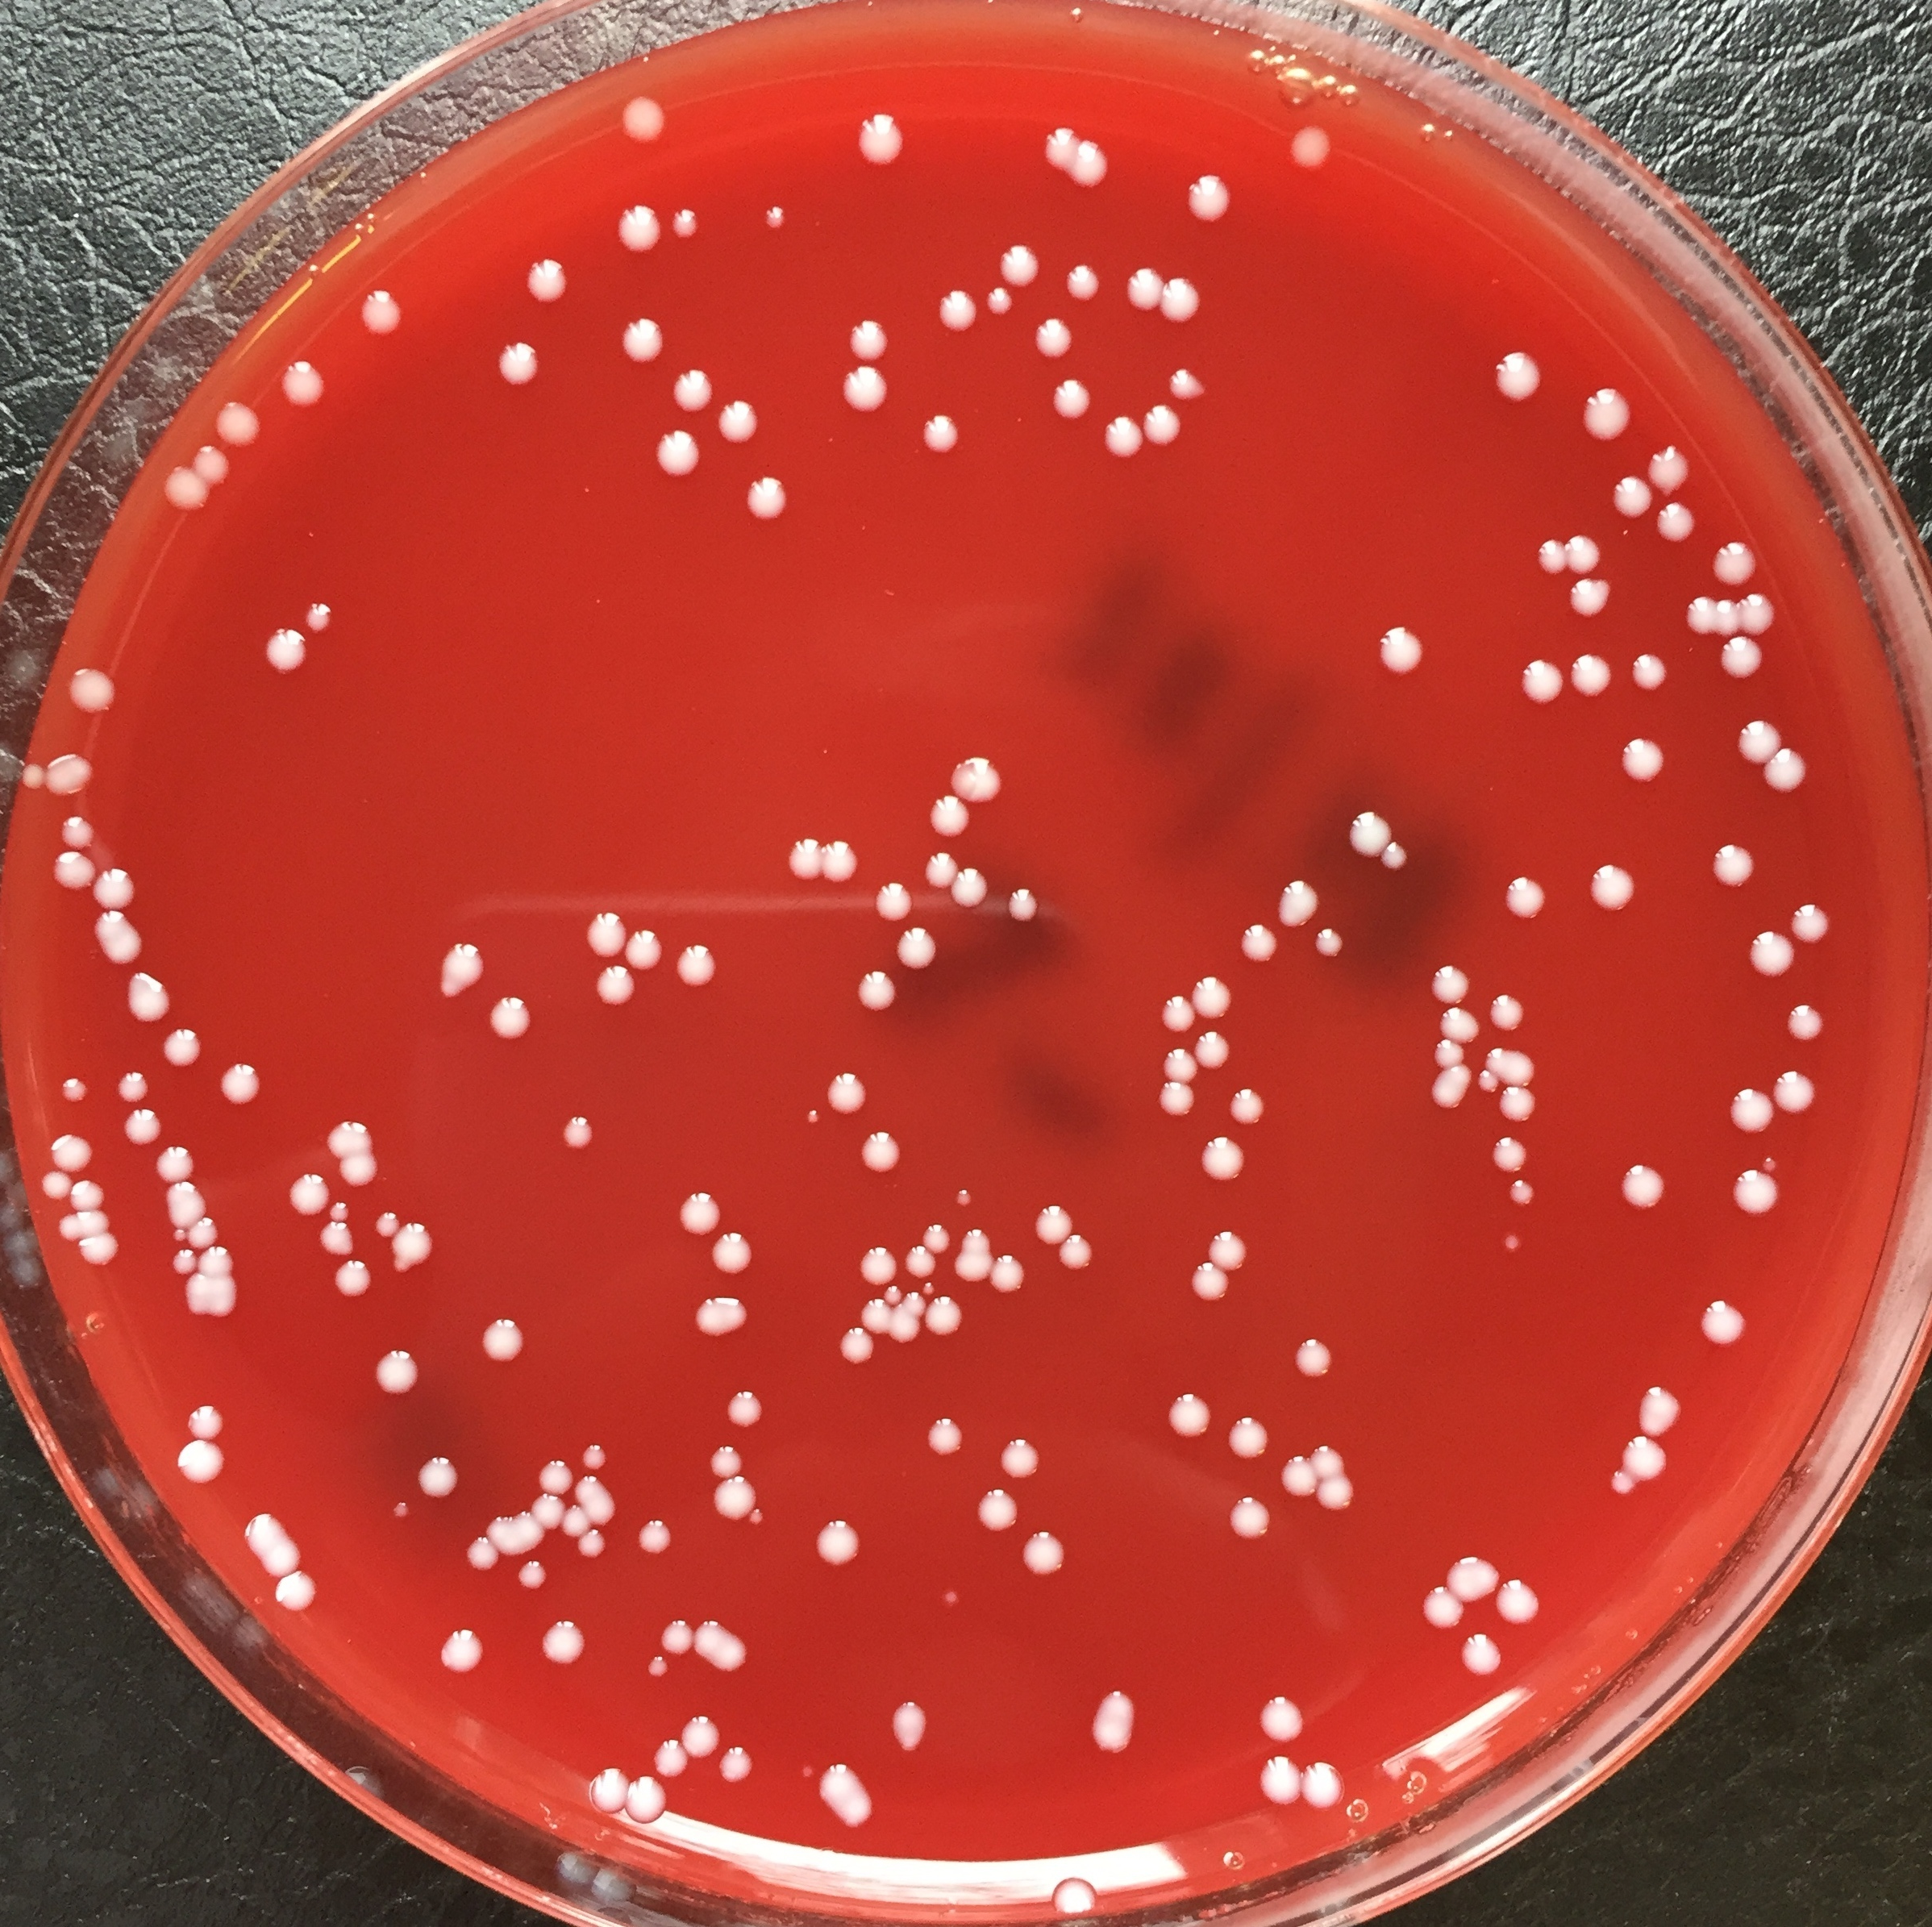sp22: (843, 106, 909, 187), (81, 904, 155, 969), (808, 1511, 872, 1586), (1075, 1685, 1136, 1759), (552, 1098, 612, 1173), (203, 390, 268, 459), (471, 1308, 536, 1376), (166, 1278, 256, 1327), (263, 351, 333, 411), (1621, 1382, 1694, 1440), (1276, 1334, 1343, 1396), (168, 1438, 236, 1496), (1170, 164, 1233, 226), (1576, 372, 1629, 445), (58, 658, 120, 720), (519, 252, 577, 318), (1244, 1689, 1318, 1740), (1759, 748, 1823, 806), (610, 86, 669, 148), (940, 743, 1002, 801), (529, 1613, 589, 1671), (358, 1346, 420, 1403), (1374, 616, 1424, 686), (640, 424, 695, 487), (44, 745, 101, 805), (693, 1615, 750, 1675), (1689, 1297, 1756, 1346), (1563, 635, 1613, 702), (1191, 965, 1247, 1023), (1704, 835, 1759, 895), (928, 275, 979, 339), (1516, 653, 1565, 718), (824, 1749, 868, 1821), (1161, 266, 1214, 326), (612, 199, 663, 261), (1701, 535, 1763, 586), (1187, 1133, 1251, 1182), (436, 1616, 483, 1682), (1586, 861, 1643, 916), (1491, 1563, 1544, 1622), (258, 626, 309, 686), (1452, 1629, 1503, 1689), (1270, 874, 1322, 934), (120, 976, 182, 1025), (1219, 1406, 1269, 1468), (436, 937, 483, 1001), (1336, 799, 1390, 854), (741, 473, 792, 531), (1043, 374, 1094, 432), (669, 937, 718, 997), (1043, 1867, 1103, 1916), (1486, 342, 1533, 404), (1022, 1523, 1069, 1585), (1646, 441, 1701, 494), (819, 1059, 872, 1113), (316, 1113, 381, 1158), (1217, 1496, 1276, 1546), (686, 1293, 746, 1341), (159, 471, 210, 526), (1288, 122, 1337, 178), (219, 1053, 268, 1110), (709, 1473, 766, 1523), (1300, 1754, 1348, 1812), (720, 1380, 766, 1440), (582, 1754, 626, 1816), (393, 1218, 434, 1285), (1727, 1173, 1780, 1225), (843, 314, 893, 369), (995, 1424, 1050, 1473), (1071, 132, 1119, 189), (575, 904, 623, 960), (1503, 870, 1551, 926), (843, 362, 889, 420), (1096, 409, 1142, 468), (1239, 916, 1284, 974), (1558, 572, 1618, 616), (820, 828, 865, 888), (845, 964, 896, 1015), (489, 341, 538, 394), (628, 1765, 670, 1826), (1253, 1749, 1295, 1811), (1154, 1385, 1207, 1435), (1738, 586, 1787, 639), (1715, 634, 1770, 681), (1782, 1002, 1838, 1048), (625, 304, 665, 367), (416, 1447, 469, 1495), (921, 1405, 969, 1458), (1443, 1549, 1496, 1597), (1620, 1159, 1666, 1214), (1768, 1068, 1823, 1113), (1420, 1579, 1461, 1641), (993, 238, 1043, 288), (1030, 316, 1080, 365), (708, 1225, 757, 1274), (1618, 641, 1667, 690), (672, 1184, 720, 1235), (663, 365, 716, 411), (889, 1696, 928, 1758), (157, 1022, 206, 1069), (972, 1486, 1022, 1533), (485, 988, 533, 1038), (1616, 738, 1667, 784), (72, 1233, 129, 1274), (159, 1175, 206, 1223), (1198, 1221, 1246, 1269), (1187, 1263, 1235, 1311), (588, 964, 635, 1011), (925, 792, 974, 838), (1729, 713, 1778, 759), (53, 806, 104, 851), (273, 1572, 318, 1623), (856, 1126, 907, 1170), (360, 284, 401, 339), (1004, 877, 1043, 934), (325, 1256, 371, 1304), (1749, 930, 1796, 976), (1422, 960, 1468, 1006), (118, 1103, 162, 1151), (1142, 402, 1184, 452), (685, 1708, 727, 1758), (286, 1168, 328, 1218), (623, 916, 665, 965), (1657, 503, 1701, 549), (856, 1242, 900, 1288), (1787, 898, 1830, 946), (916, 404, 956, 454), (92, 861, 141, 902), (44, 1129, 94, 1170), (955, 859, 990, 916), (939, 1578, 977, 1629), (1489, 1043, 1540, 1082), (1616, 1436, 1669, 1473), (1602, 475, 1648, 517), (573, 1475, 616, 1521), (1029, 1202, 1075, 1244), (898, 926, 940, 972), (1727, 1087, 1773, 1129), (1491, 1230, 1539, 1271), (1145, 988, 1193, 1029), (1124, 259, 1163, 309), (314, 1218, 356, 1262), (1281, 1451, 1316, 1503), (1223, 1083, 1265, 1128), (185, 438, 226, 484), (1569, 528, 1609, 574), (51, 844, 92, 889), (152, 1140, 198, 1181), (833, 1323, 872, 1371), (183, 1399, 228, 1440), (242, 1505, 286, 1546), (1057, 1232, 1097, 1276), (1164, 358, 1210, 397), (648, 1740, 693, 1779), (1193, 1031, 1239, 1069), (258, 1537, 305, 1574), (928, 1299, 965, 1346), (628, 1514, 678, 1549), (1156, 1080, 1198, 1121), (1487, 988, 1528, 1031), (483, 1505, 513, 1562), (1039, 120, 1075, 168), (988, 1248, 1023, 1295), (1489, 1136, 1537, 1172), (1678, 595, 1713, 642), (875, 875, 909, 925), (722, 1745, 760, 1788), (1154, 1041, 1196, 1080), (1427, 1064, 1466, 1106), (1496, 1083, 1539, 1122), (196, 1244, 251, 1274), (723, 394, 760, 438), (1531, 535, 1567, 581), (1313, 1486, 1359, 1521), (1069, 261, 1103, 309), (535, 1456, 572, 1498), (655, 1613, 692, 1655), (71, 1173, 116, 1207), (1434, 1004, 1480, 1038), (1604, 1472, 1643, 1511), (951, 1249, 988, 1290), (702, 1445, 745, 1481), (1309, 1435, 1344, 1477), (921, 847, 956, 889), (785, 831, 819, 875), (113, 1068, 152, 1105), (302, 596, 337, 637), (755, 196, 796, 231), (886, 1309, 921, 1350), (18, 755, 48, 803), (185, 1212, 228, 1246), (985, 281, 1015, 326), (573, 1528, 610, 1565), (339, 1154, 379, 1188), (568, 1436, 610, 1468), (1320, 925, 1348, 971), (528, 1496, 568, 1528), (462, 1532, 492, 1574), (856, 1297, 889, 1334), (369, 1205, 401, 1244), (519, 1556, 547, 1599), (74, 1209, 120, 1233), (900, 1285, 928, 1323), (512, 1505, 535, 1553), (37, 1170, 69, 1203), (900, 1244, 935, 1274), (1383, 845, 1415, 877), (51, 1076, 86, 1105), (955, 1228, 993, 1253), (1713, 596, 1738, 635), (166, 1249, 198, 1279), (670, 206, 699, 240), (1505, 1179, 1537, 1207), (53, 1209, 76, 1246), (326, 1193, 355, 1223), (1434, 1038, 1464, 1066), (1757, 1147, 1786, 1175), (563, 1505, 589, 1535), (644, 1652, 669, 1683), (925, 1221, 949, 1253), (951, 1177, 976, 1207), (386, 1496, 415, 1521), (796, 1103, 820, 1128), (792, 1756, 815, 1782), (746, 1505, 769, 1530), (1479, 1071, 1500, 1098), (884, 1279, 903, 1306), (168, 1226, 187, 1246), (917, 1281, 939, 1297)
